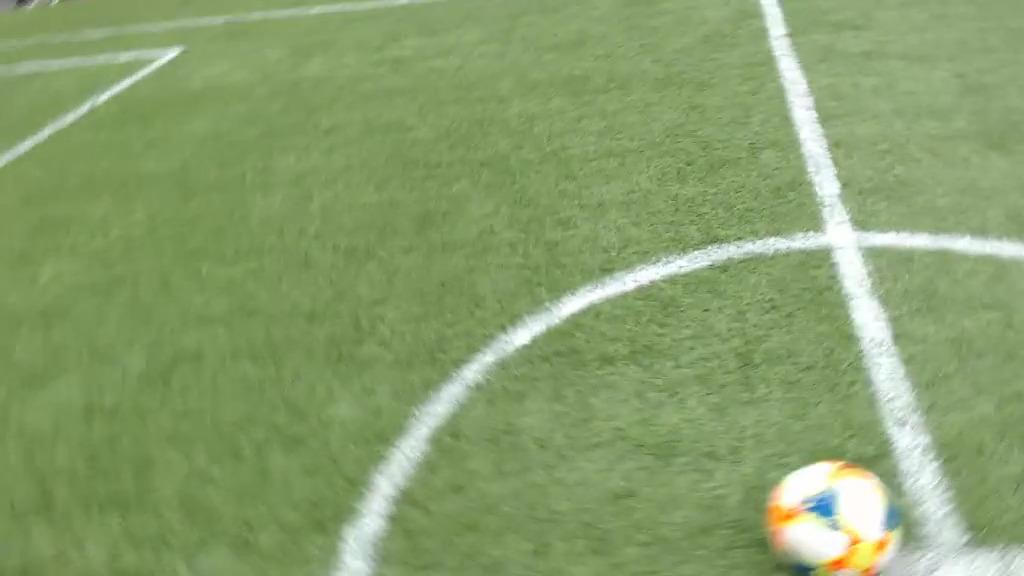ball: (770, 460, 900, 576)
